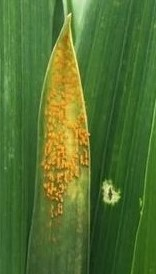Leaf Rust: (34, 57, 92, 210)
